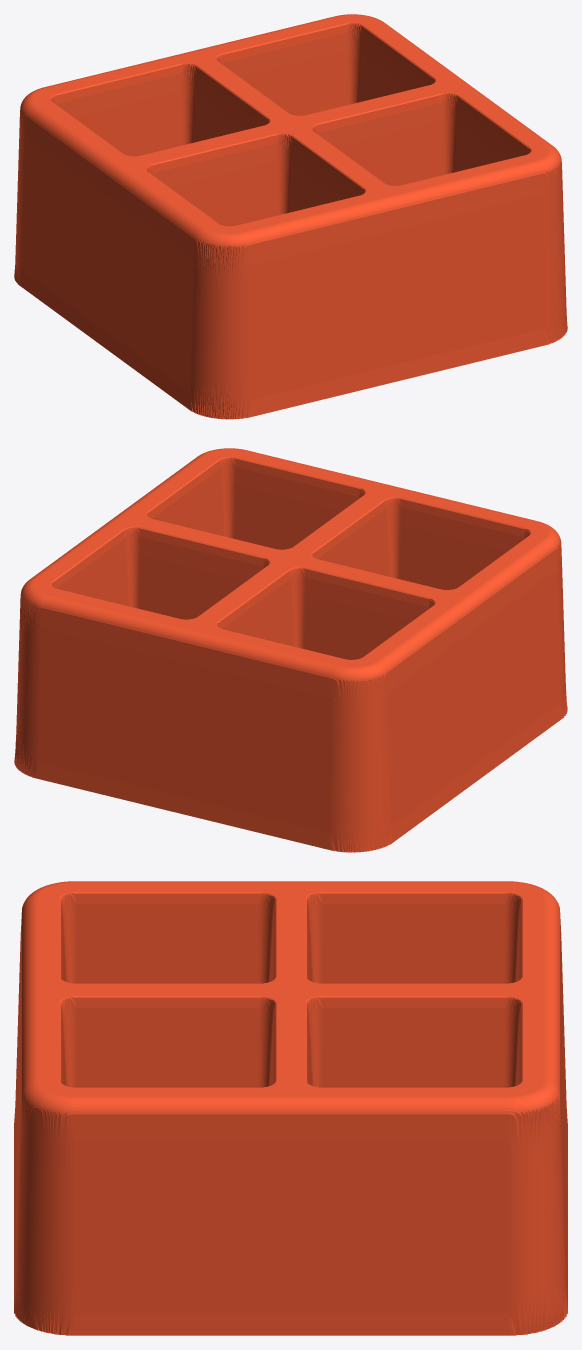
The model's file is mold.glb.
3 renders of one model, top to bottom at view 1: azimuth 30°, elevation 25°; view 2: azimuth 150°, elevation 25°; view 3: azimuth 270°, elevation 25°, orthographic. The views are drawn at different scales.
Visible parts, largest first — view 1: geometry_0; view 2: geometry_0; view 3: geometry_0.
Boxes of the visible parts, x1,y1,x2,y2 form: geometry_0: [14, 14, 567, 419]; geometry_0: [14, 448, 567, 852]; geometry_0: [14, 881, 567, 1335].
Bounding box in the file's own units: 0.0828 × 0.0377 × 0.0828.
